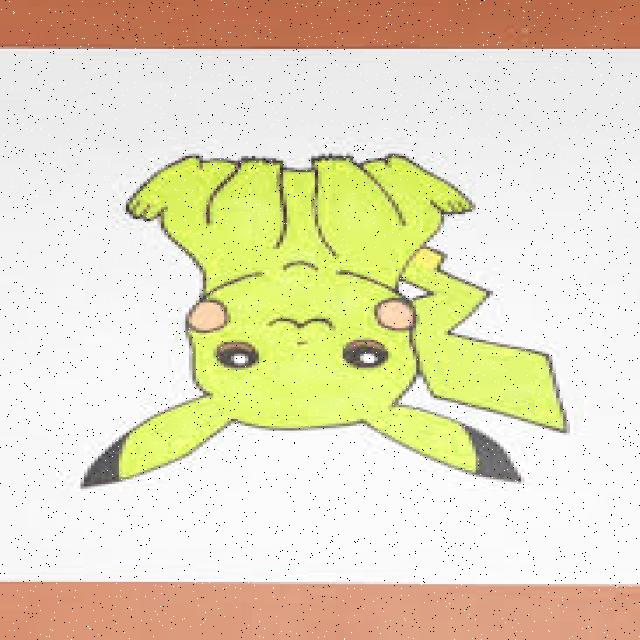pikachu: (75, 144, 578, 501)
